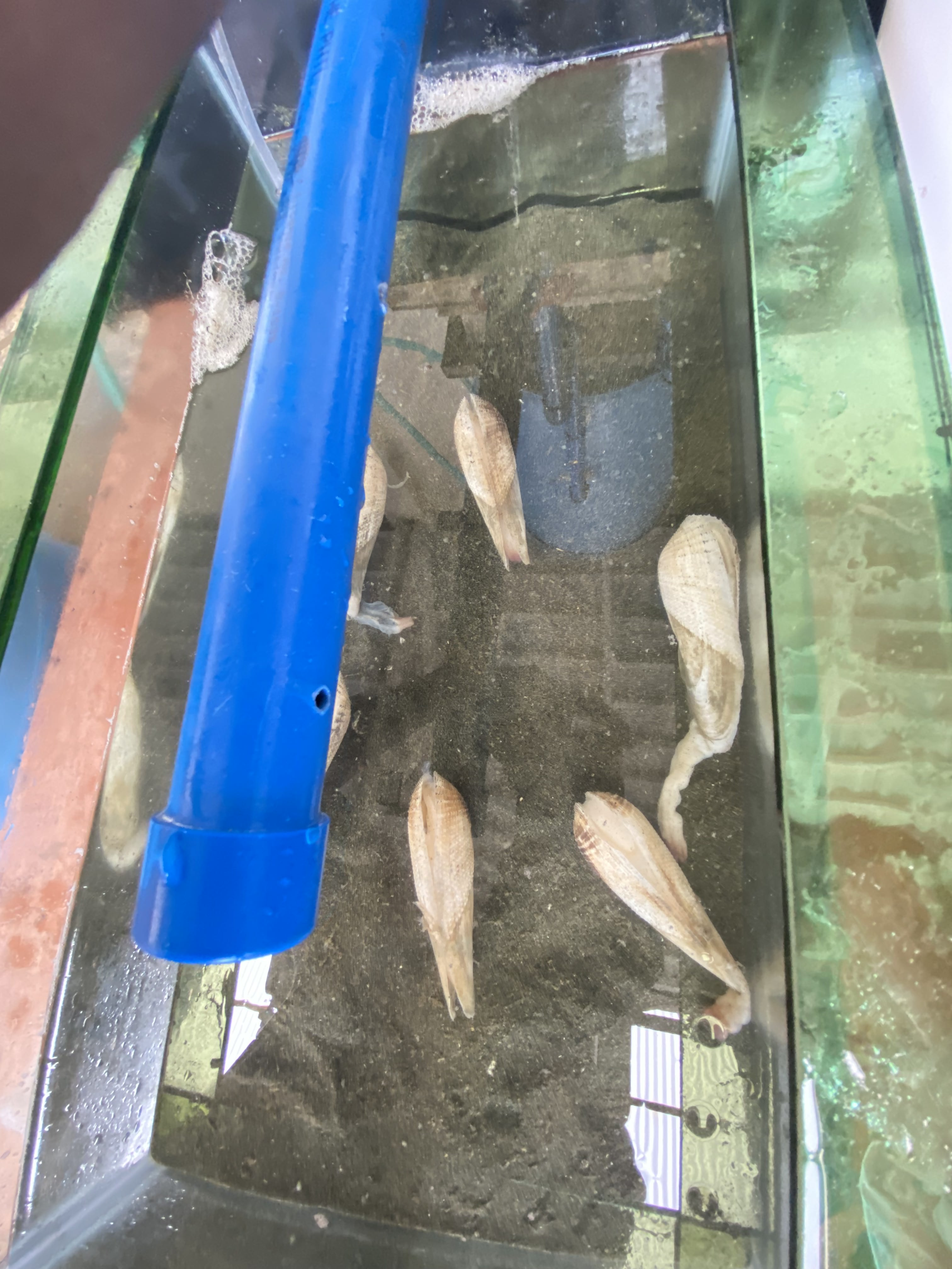At risk: (574, 792, 750, 1036), (657, 516, 744, 862), (408, 767, 474, 1019), (454, 392, 529, 570), (347, 445, 414, 634)
